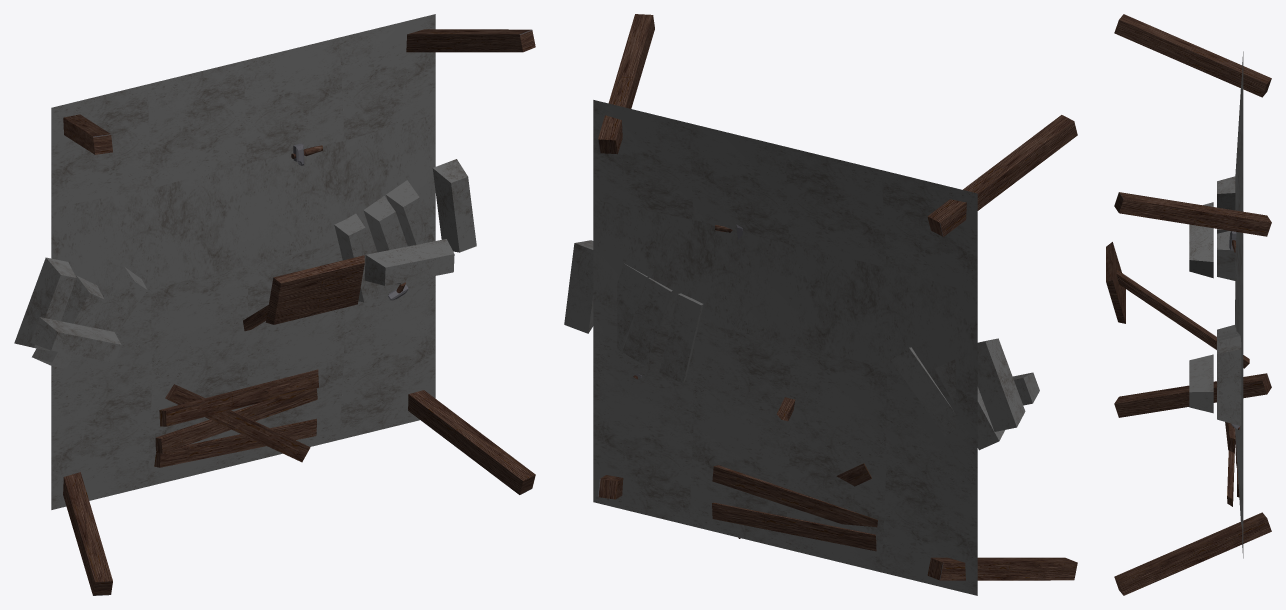
The model's file is placer.fbx.
The picture shows the model from 3 angles, left to right: view 1: azimuth 30°, elevation 25°; view 2: azimuth 150°, elevation 25°; view 3: azimuth 270°, elevation 25°; orthographic projection. The views are drawn at different scales.
Visible parts, largest first — view 1: Plane, Cube.001, Cube, Cube.013, Cube.009, Cube.019, Cube.004, Cube.005, Cube.012, Cube.014, Cube.011, Cube.002 (+4 smaller); view 2: Plane, Cube.001, Cube.004, Cube.014, Cube.012, Cube.006, Cube.007, Cube.019, Cube.002, Cube.008, Cube.003; view 3: Cube.001, Plane, Cube, Cube.019, Cube.009, Cube.005, Cube.002, Cube.004, Cube.011, Cube.013.
Part boxes in pixels (x1,y1,x2,y2): Plane: [51, 14, 435, 509]; Cube.001: [63, 29, 535, 595]; Cube: [243, 255, 364, 331]; Cube.013: [159, 369, 318, 426]; Cube.009: [364, 239, 454, 285]; Cube.019: [432, 159, 476, 252]; Cube.004: [14, 257, 76, 350]; Cube.005: [30, 317, 121, 362]; Cube.012: [155, 388, 317, 453]; Cube.014: [154, 418, 316, 467]; Cube.011: [165, 384, 310, 462]; Cube.002: [89, 266, 147, 334]; Plane: [593, 100, 977, 595]; Cube.001: [598, 14, 1077, 580]; Cube.004: [977, 338, 1025, 431]; Cube.014: [712, 502, 876, 551]; Cube.012: [712, 465, 877, 527]; Cube.006: [659, 293, 703, 383]; Cube.007: [622, 277, 672, 365]; Cube.019: [564, 240, 593, 333]; Cube.002: [891, 347, 955, 436]; Cube.008: [617, 263, 647, 351]; Cube.003: [934, 359, 1004, 450]; Cube.001: [1114, 14, 1271, 595]; Plane: [1235, 51, 1243, 558]; Cube: [1106, 242, 1249, 368]; Cube.019: [1217, 342, 1241, 426]; Cube.009: [1189, 354, 1213, 413]; Cube.005: [1189, 202, 1213, 278]; Cube.002: [1217, 231, 1235, 280]; Cube.004: [1217, 176, 1235, 210]; Cube.011: [1227, 428, 1235, 506]; Cube.013: [1225, 422, 1235, 452].
Size of the model in its own units: 553 by 538 by 203.
